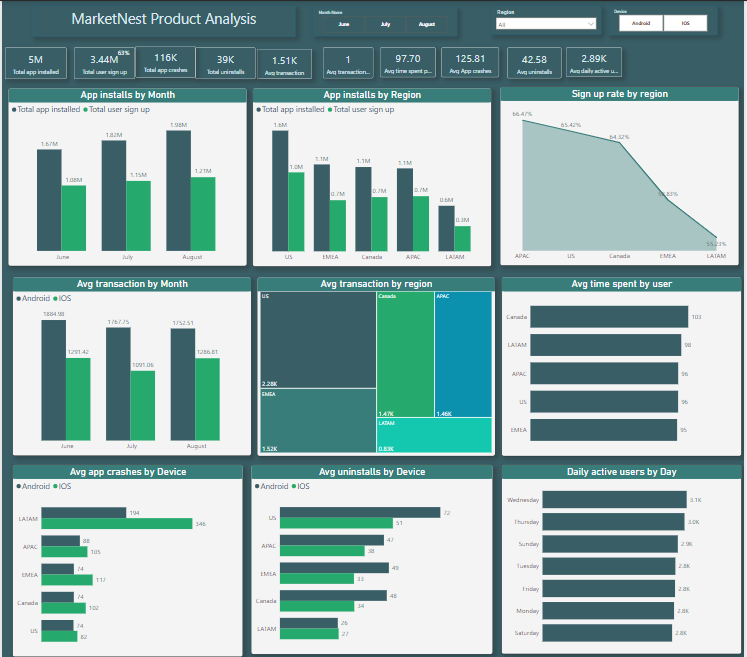

This screenshot's page, from the dashboard's own definition file:
{"tool":"powerbi","page":{"name":"Product analysis Overview","canvas":[1900,1700],"ordinal":0},"visuals":[{"type":"card","title":"Loan amount","fields":{"Values":["Venbridge measures.Avg time spent per user"]},"box":[966.7,119,142.9,76.2],"z":0},{"type":"card","fields":{"Values":["Venbridge measures.Total app installed"]},"box":[9.5,119,157.1,81],"z":1000},{"type":"card","fields":{"Values":["Venbridge measures.Transactions"]},"box":[654.8,121.4,140.5,76.2],"z":2000},{"type":"card","fields":{"Values":["Venbridge measures.Avg daily active users"]},"box":[1443.2,120.5,143.2,75],"z":3000},{"type":"slicer","fields":{"Values":["Vendbridge.Device"]},"box":[1552.4,11.9,281,76.2],"z":4000},{"type":"card","fields":{"Values":["Venbridge measures.Avg App crashes"]},"box":[1126.2,119,147.6,76.2],"z":5000},{"type":"textbox","box":[78,9.8,675.6,80.5],"z":6000},{"type":"card","fields":{"Values":["Venbridge measures.Avg uninstalls"]},"box":[1292.9,119,138.1,78.6],"z":7000},{"type":"slicer","fields":{"Values":["Vendbridge.Region"]},"box":[1252.5,12.5,282.5,75],"z":8000},{"type":"clusteredColumnChart","title":"App installs by Region","fields":{"Category":["Vendbridge.Region"],"Y":["Venbridge measures.Total app installed","Venbridge measures.Total user sign up"]},"box":[640.5,221.4,611.9,457.1],"z":9000},{"type":"areaChart","title":"Sign up rate by region","fields":{"Category":["Vendbridge.Region"],"Y":["Venbridge measures.Sign up rate"]},"box":[1273.2,219.5,612.2,458.5],"z":10000},{"type":"clusteredBarChart","title":"Avg time spent by user ","fields":{"Category":["Vendbridge.Region"],"Y":["Venbridge measures.Avg time spent per user"]},"box":[1278,704.9,614.6,458.5],"z":11000},{"type":"treemap","title":"Avg transaction by region","fields":{"Group":["Vendbridge.Region"],"Values":["Venbridge measures.Avg transaction"]},"box":[653.7,704.9,609.8,458.5],"z":12000},{"type":"clusteredBarChart","title":"Avg app crashes by Device","fields":{"Series":["Vendbridge.Device"],"Y":["Venbridge measures.Avg App crashes"],"Category":["Vendbridge.Region"]},"box":[26.8,1187.8,590.2,492.7],"z":13000},{"type":"clusteredBarChart","title":"Avg uninstalls by Device","fields":{"Series":["Vendbridge.Device"],"Y":["Venbridge measures.Avg uninstalls"],"Category":["Vendbridge.Region"]},"box":[635.7,1188.1,619,485.7],"z":14000},{"type":"card","fields":{"Values":["Vendbridge.Avg transaction per user"]},"box":[821.4,119,128.6,78.6],"z":15000},{"type":"card","fields":{"Values":["Venbridge measures.Sign up rate"]},"box":[282.9,114.6,53.7,39],"z":16000},{"type":"clusteredColumnChart","title":"App installs by Month","fields":{"Y":["Venbridge measures.Total app installed","Venbridge measures.Total user sign up"],"Category":["Date.Month Name"]},"box":[14.6,222,612.2,456.1],"z":17000},{"type":"clusteredColumnChart","title":"Avg transaction by Month","fields":{"Category":["Date.Month Name"],"Y":["Venbridge measures.Avg transaction"],"Series":["Vendbridge.Device"]},"box":[25,707.7,611.5,457.7],"z":18000},{"type":"clusteredBarChart","title":"Daily active users by Day","fields":{"Category":["Date.Day Name"],"Y":["Venbridge measures.Avg daily active users"]},"box":[1278,1187.8,614.6,485.4],"z":19000},{"type":"card","fields":{"Values":["Venbridge measures.Total user sign up"]},"box":[185.4,119.5,156.1,80.5],"z":20000},{"type":"card","fields":{"Values":["Venbridge measures.Total app crashes"]},"box":[341.5,117.1,153.7,80.5],"z":21000},{"type":"card","fields":{"Values":["Venbridge measures.Total uninstalls"]},"box":[495.1,119.5,153.7,80.5],"z":22000},{"type":"slicer","fields":{"Values":["Date.Month Name"]},"box":[795.1,14.6,370.7,75.6],"z":23000}]}

Visuals, with their boxes in screenshot pixels (x1, y1, x2, y2), scaled from the page's 1900x1700 canvas onto the 747x657 screenshot:
"Loan amount" card: x1=380 y1=46 x2=436 y2=75
card - Venbridge measures.Total app installed: x1=4 y1=46 x2=66 y2=77
card - Venbridge measures.Transactions: x1=257 y1=47 x2=313 y2=76
card - Venbridge measures.Avg daily active users: x1=567 y1=47 x2=624 y2=76
slicer - Vendbridge.Device: x1=610 y1=5 x2=721 y2=34
card - Venbridge measures.Avg App crashes: x1=443 y1=46 x2=501 y2=75
textbox: x1=31 y1=4 x2=296 y2=35
card - Venbridge measures.Avg uninstalls: x1=508 y1=46 x2=563 y2=76
slicer - Vendbridge.Region: x1=492 y1=5 x2=603 y2=34
"App installs by Region" clusteredColumnChart: x1=252 y1=86 x2=492 y2=262
"Sign up rate by region" areaChart: x1=501 y1=85 x2=741 y2=262
"Avg time spent by user " clusteredBarChart: x1=502 y1=272 x2=744 y2=450
"Avg transaction by region" treemap: x1=257 y1=272 x2=497 y2=450
"Avg app crashes by Device" clusteredBarChart: x1=11 y1=459 x2=243 y2=649
"Avg uninstalls by Device" clusteredBarChart: x1=250 y1=459 x2=493 y2=647
card - Vendbridge.Avg transaction per user: x1=323 y1=46 x2=374 y2=76
card - Venbridge measures.Sign up rate: x1=111 y1=44 x2=132 y2=59
"App installs by Month" clusteredColumnChart: x1=6 y1=86 x2=246 y2=262
"Avg transaction by Month" clusteredColumnChart: x1=10 y1=274 x2=250 y2=450
"Daily active users by Day" clusteredBarChart: x1=502 y1=459 x2=744 y2=647
card - Venbridge measures.Total user sign up: x1=73 y1=46 x2=134 y2=77
card - Venbridge measures.Total app crashes: x1=134 y1=45 x2=195 y2=76
card - Venbridge measures.Total uninstalls: x1=195 y1=46 x2=255 y2=77
slicer - Date.Month Name: x1=313 y1=6 x2=458 y2=35
